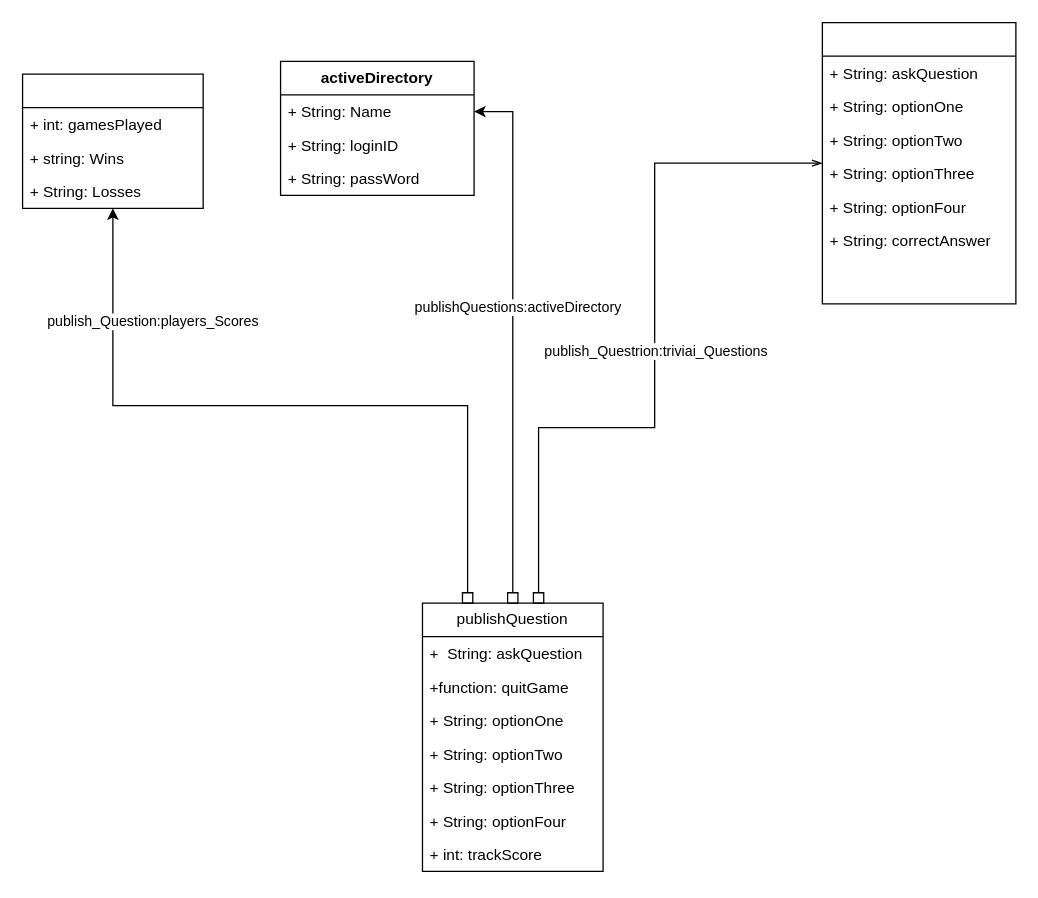
Some shapes in this 1038 by 898 pixel diagram are drawn without their labels. The shapes that lost their labels are listed below. From the top down, each one's box as (x1, y1, x2, y2) in pixels, then its label:
(21, 73, 203, 208): playersScore
(821, 21, 1016, 304): triviaQuestions
